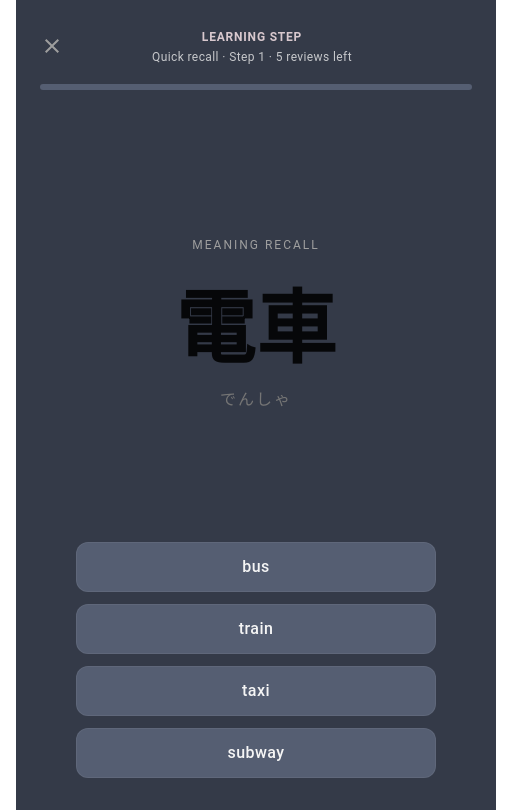
Test: Quiz Phase 3 session › uses neutral feedback for a missed learning step
Click the button "bus" at (256, 567), box top-left (76, 542), bottom-right (436, 592)
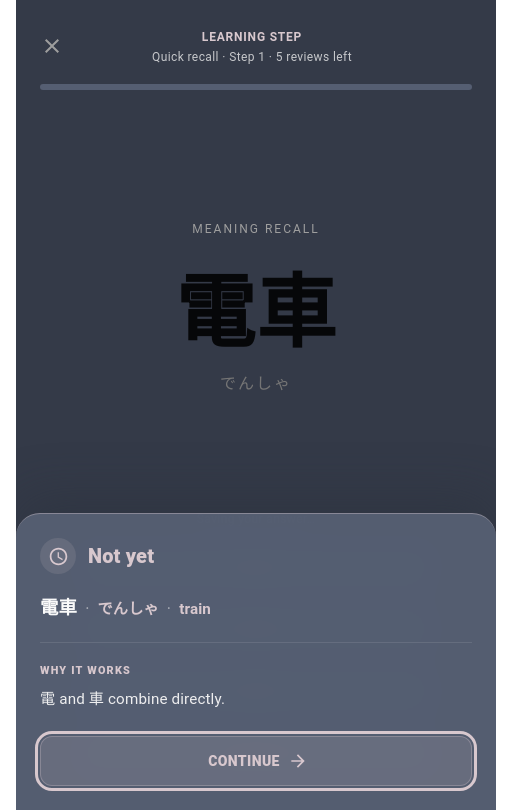
Now the heading "Not yet" is shown, box top-left (88, 540), bottom-right (154, 572)
Now the element named "電車, でんしゃ, train" is shown, box top-left (40, 594), bottom-right (472, 643)
Now the text "電 and 車 combine directly." is shown, box top-left (40, 690), bottom-right (225, 708)
